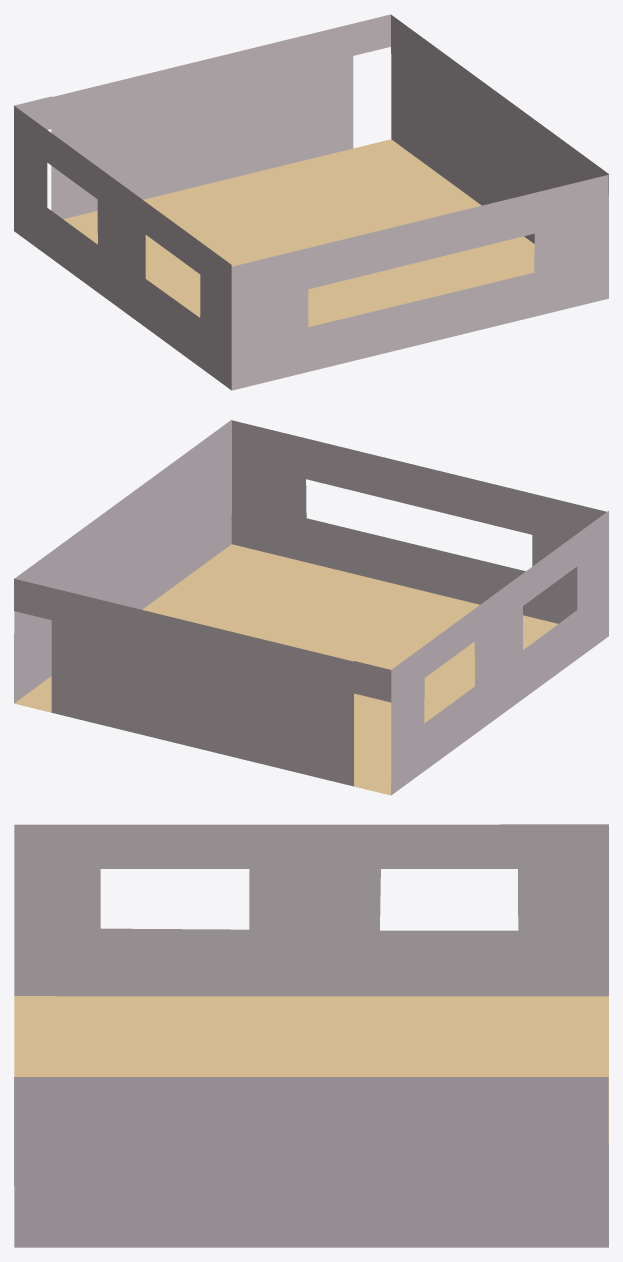
The model's file is Salon.fbx.
3 renders of one model, top to bottom at view 1: azimuth 30°, elevation 25°; view 2: azimuth 150°, elevation 25°; view 3: azimuth 270°, elevation 25°, orthographic. The views are drawn at different scales.
Parts seen in each view (by area): view 1: Plane; view 2: Plane; view 3: Plane.
Part boxes in pixels (left/top/right/bottom): Plane: left=14, top=14, right=608, bottom=390; Plane: left=14, top=419, right=608, bottom=795; Plane: left=14, top=824, right=608, bottom=1247.
Bounding box in the file's own units: 1000 × 318 × 1000.
